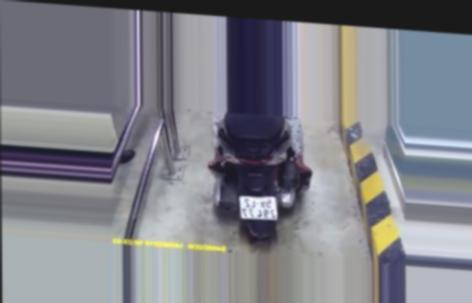License_Plate: (238, 192, 282, 226)
